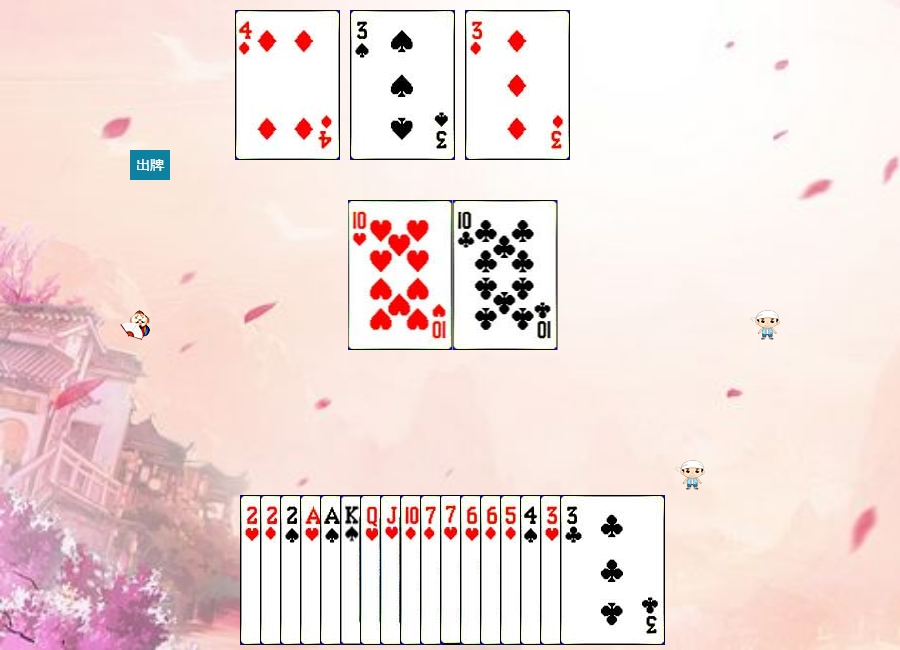10~1: (400, 495, 505, 645)
10~2: (453, 200, 558, 350)
10~3: (348, 200, 453, 350)
11~3: (380, 495, 485, 645)
12~3: (360, 495, 465, 645)
13~4: (340, 495, 445, 645)
14~3: (300, 495, 405, 645)
14~4: (320, 495, 425, 645)
15~1: (260, 495, 365, 645)
15~3: (240, 495, 345, 645)
15~4: (280, 495, 385, 645)
3~1: (465, 10, 570, 160)
3~2: (560, 495, 665, 645)
3~3: (540, 495, 645, 645)
3~4: (350, 10, 455, 160)
4~1: (235, 10, 340, 160)
4~4: (520, 495, 625, 645)
5~1: (500, 495, 605, 645)
6~1: (480, 495, 585, 645)
6~3: (460, 495, 565, 645)
7~1: (420, 495, 525, 645)
7~3: (440, 495, 545, 645)
